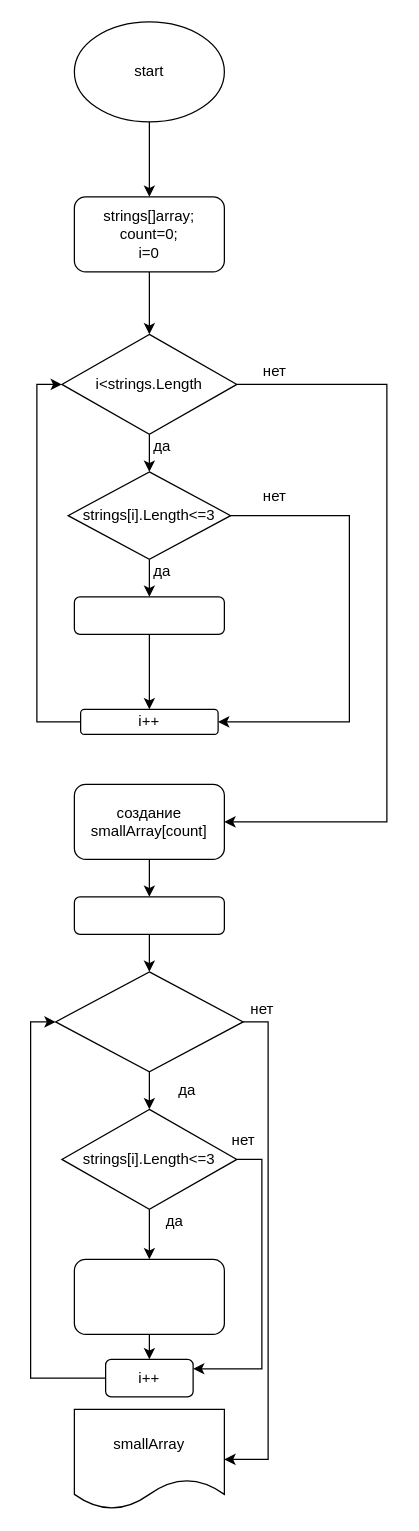
This 419x1531 diagram has some shape labels left out. The shapes that lost their labels are listed below. From the top down, each one's box as (x1, y1, x2, y2) in pixels, then its label:
(73, 596, 224, 634): count++;
(73, 896, 224, 934): i=0 count=0
(54, 971, 243, 1072): i<strings.Length<=3
(73, 1258, 224, 1334): smallArray[count] = strins[i]
